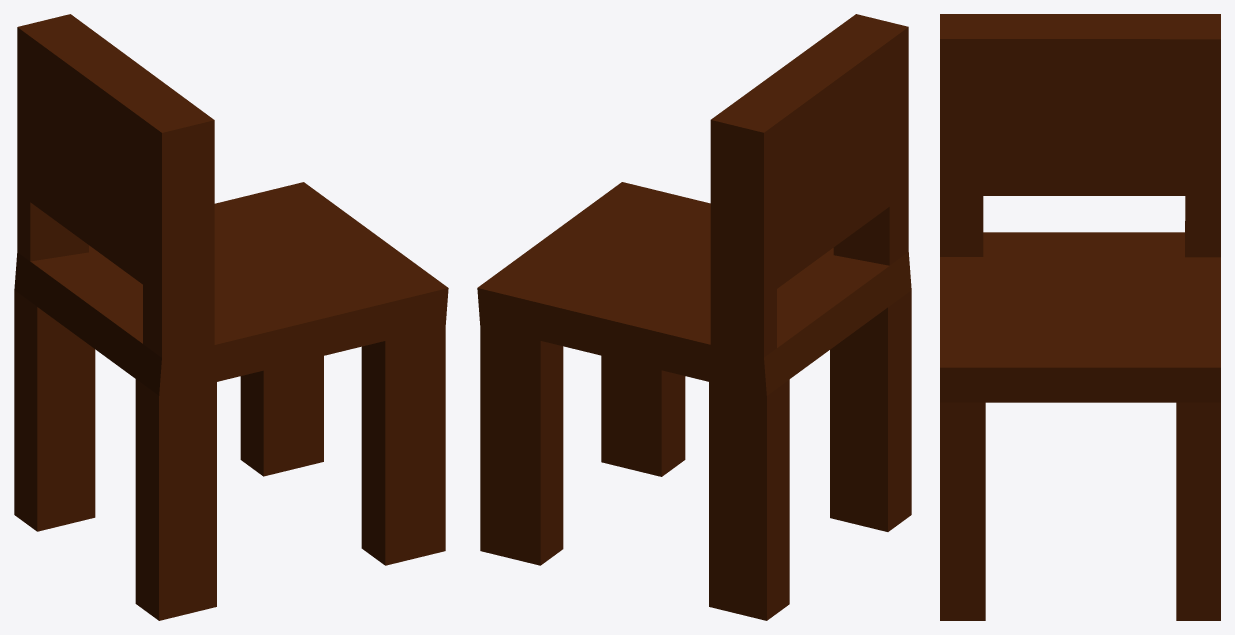
Rendered from Chair.FBX.
3 renders of one model, left to right at view 1: azimuth 30°, elevation 25°; view 2: azimuth 150°, elevation 25°; view 3: azimuth 270°, elevation 25°, orthographic. The views are drawn at different scales.
Parts seen in each view (by area): view 1: Box001; view 2: Box001; view 3: Box001.
Part boxes in pixels (bbox=[...]): Box001: bbox=[14, 14, 448, 620]; Box001: bbox=[477, 14, 911, 620]; Box001: bbox=[940, 14, 1220, 620].
Size of the model in its own units: 31.81 by 51.18 by 27.56.
